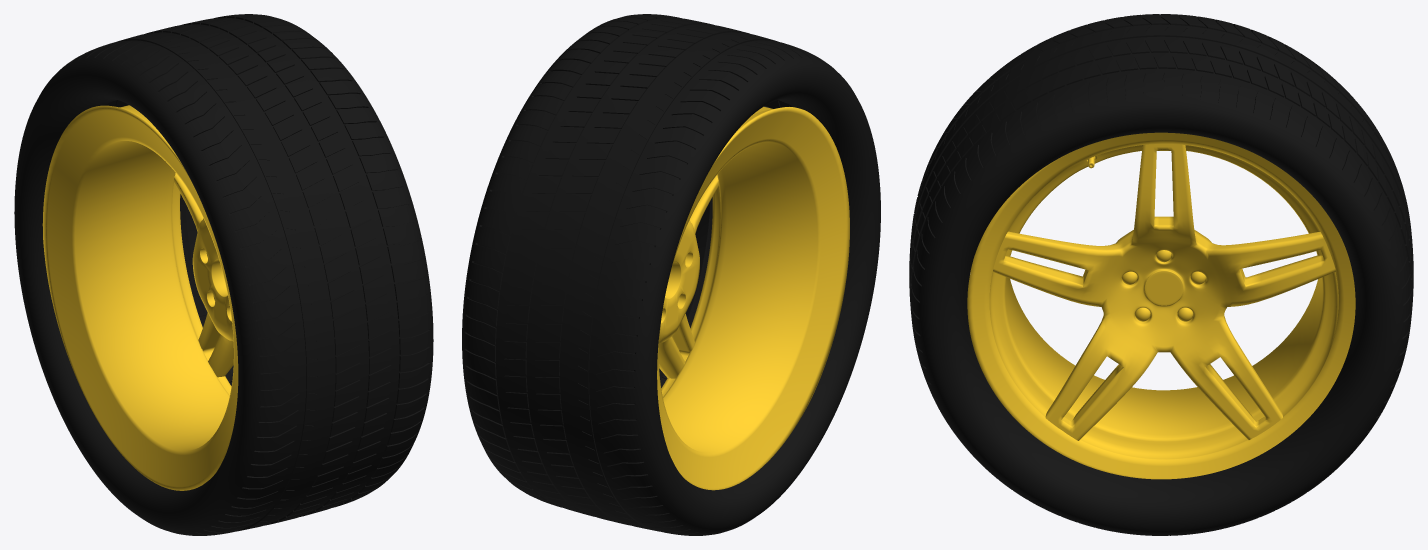
The model's file is 5obgect1122.glb.
3 renders of one model, left to right at view 1: azimuth 30°, elevation 25°; view 2: azimuth 150°, elevation 25°; view 3: azimuth 270°, elevation 25°, orthographic.
Parts seen in each view (by area): view 1: Object11, Object22; view 2: Object11, Object22; view 3: Object11, Object22.
Part boxes in pixels (x1=…): Object11: x1=14, y1=14, x2=433, y2=535; Object22: x1=42, y1=105, x2=238, y2=490; Object11: x1=462, y1=14, x2=880, y2=535; Object22: x1=657, y1=106, x2=849, y2=490; Object11: x1=909, y1=14, x2=1413, y2=535; Object22: x1=967, y1=132, x2=1355, y2=479.
Size of the model in its own units: 0.4233 by 0.9886 by 0.9886.
